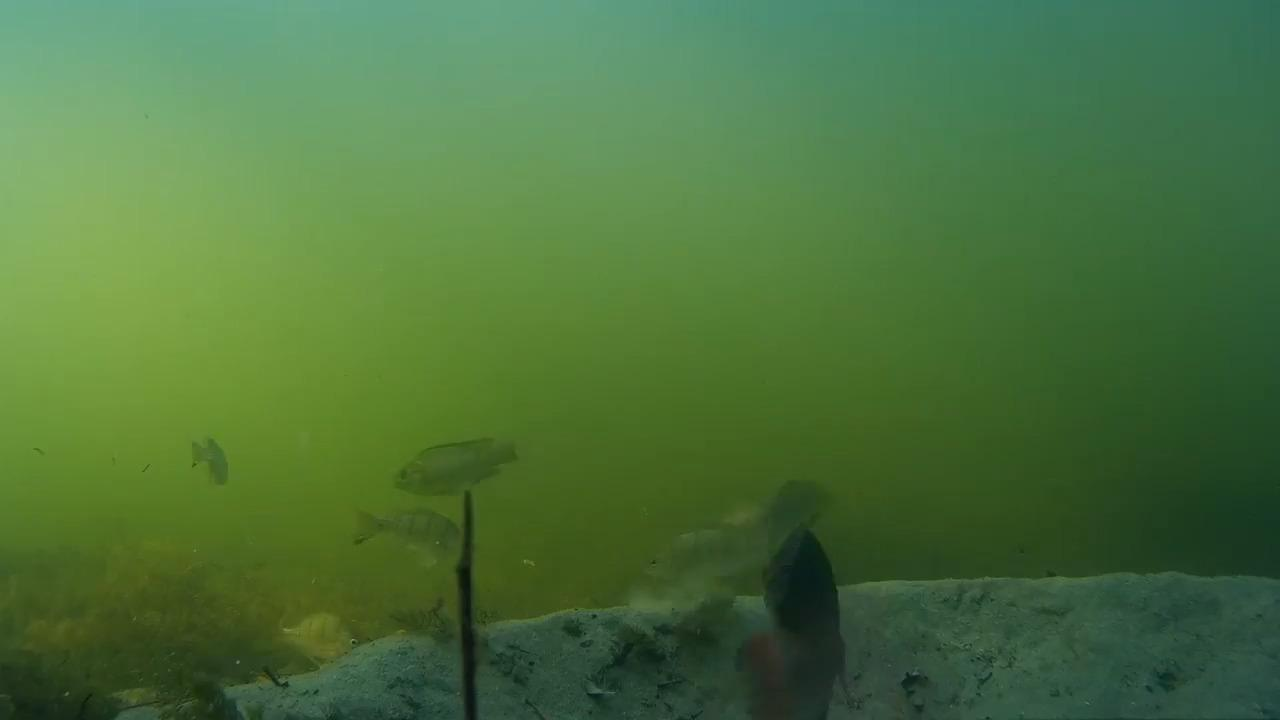Tilapia: (334, 482, 501, 602), (368, 436, 535, 508), (643, 502, 778, 590), (160, 434, 237, 492)
